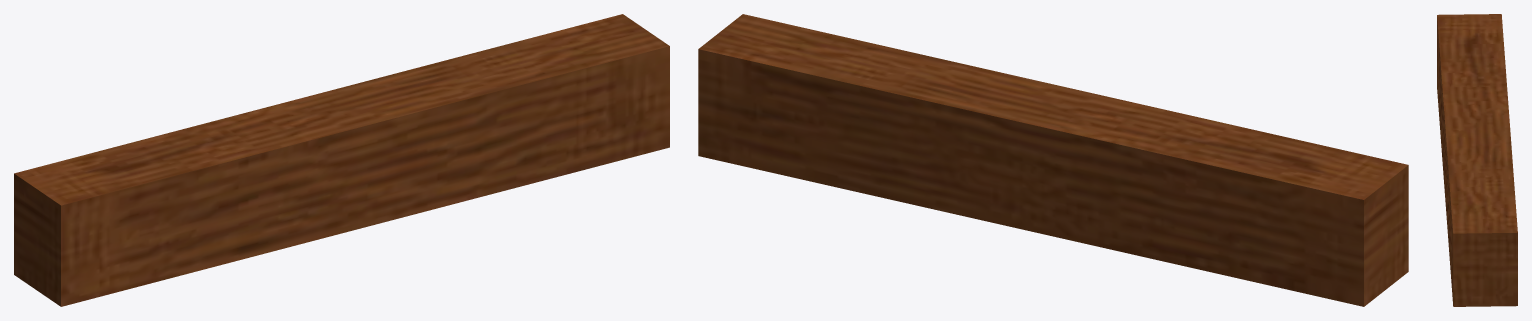
File: frame__top_rail_neg.glb
3 views of the same model, side by side, from view 1: azimuth 30°, elevation 25°; view 2: azimuth 150°, elevation 25°; view 3: azimuth 270°, elevation 25° (orthographic). The views are drawn at different scales.
Visible parts, largest first — view 1: geometry_0; view 2: geometry_0; view 3: geometry_0.
Part boxes in pixels (x1=…): geometry_0: x1=14, y1=14, x2=669, y2=306; geometry_0: x1=698, y1=14, x2=1408, y2=306; geometry_0: x1=1437, y1=14, x2=1517, y2=306.
Bounding box in the file's own units: 0.3212 × 0.05 × 0.05.
1 material, 1 textured.
